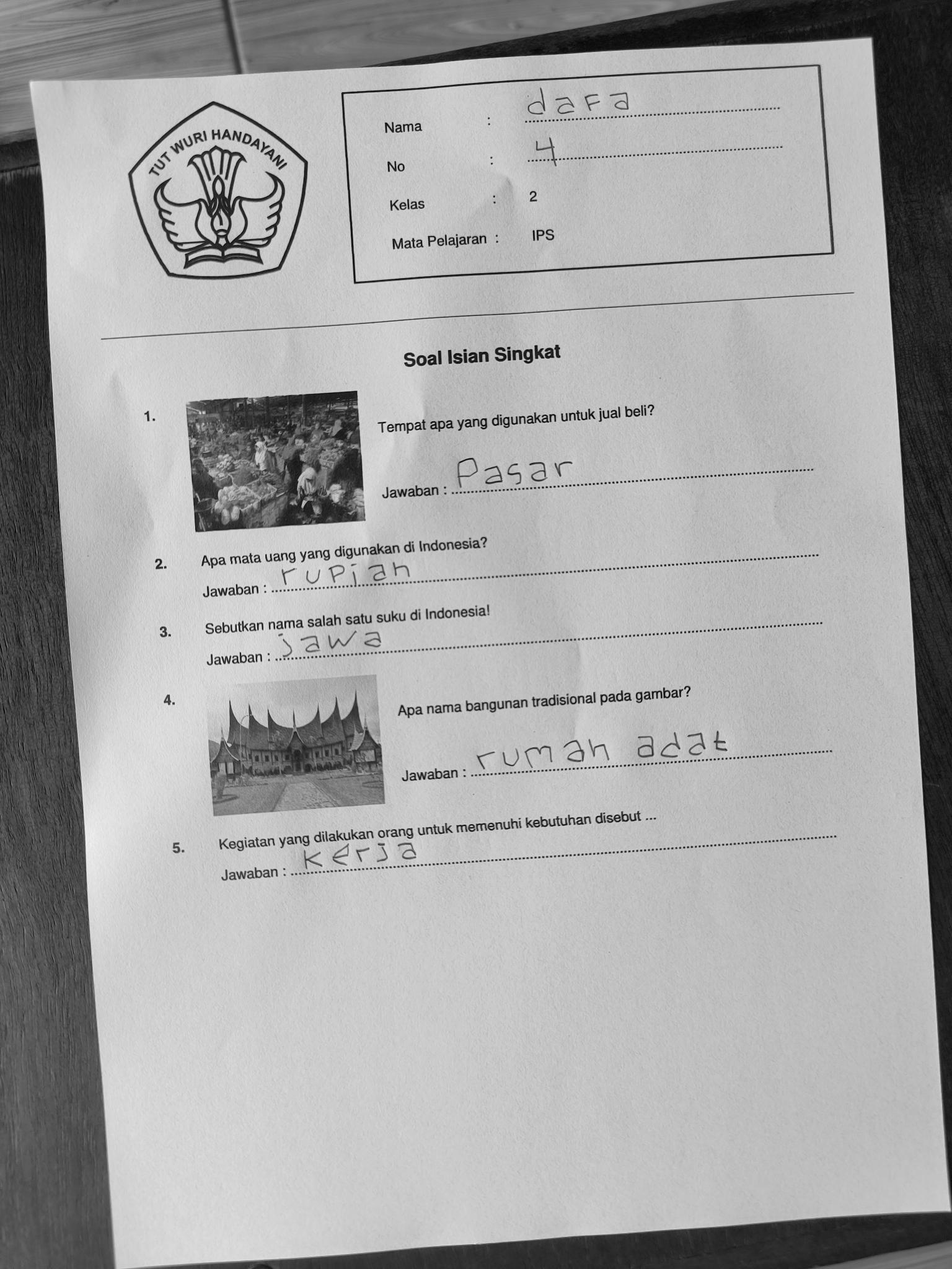soal-1: (122, 349, 841, 544)
soal-2: (141, 503, 845, 610)
soal-3: (143, 574, 844, 679)
soal-4: (150, 643, 858, 826)
soal-5: (155, 768, 864, 910)
